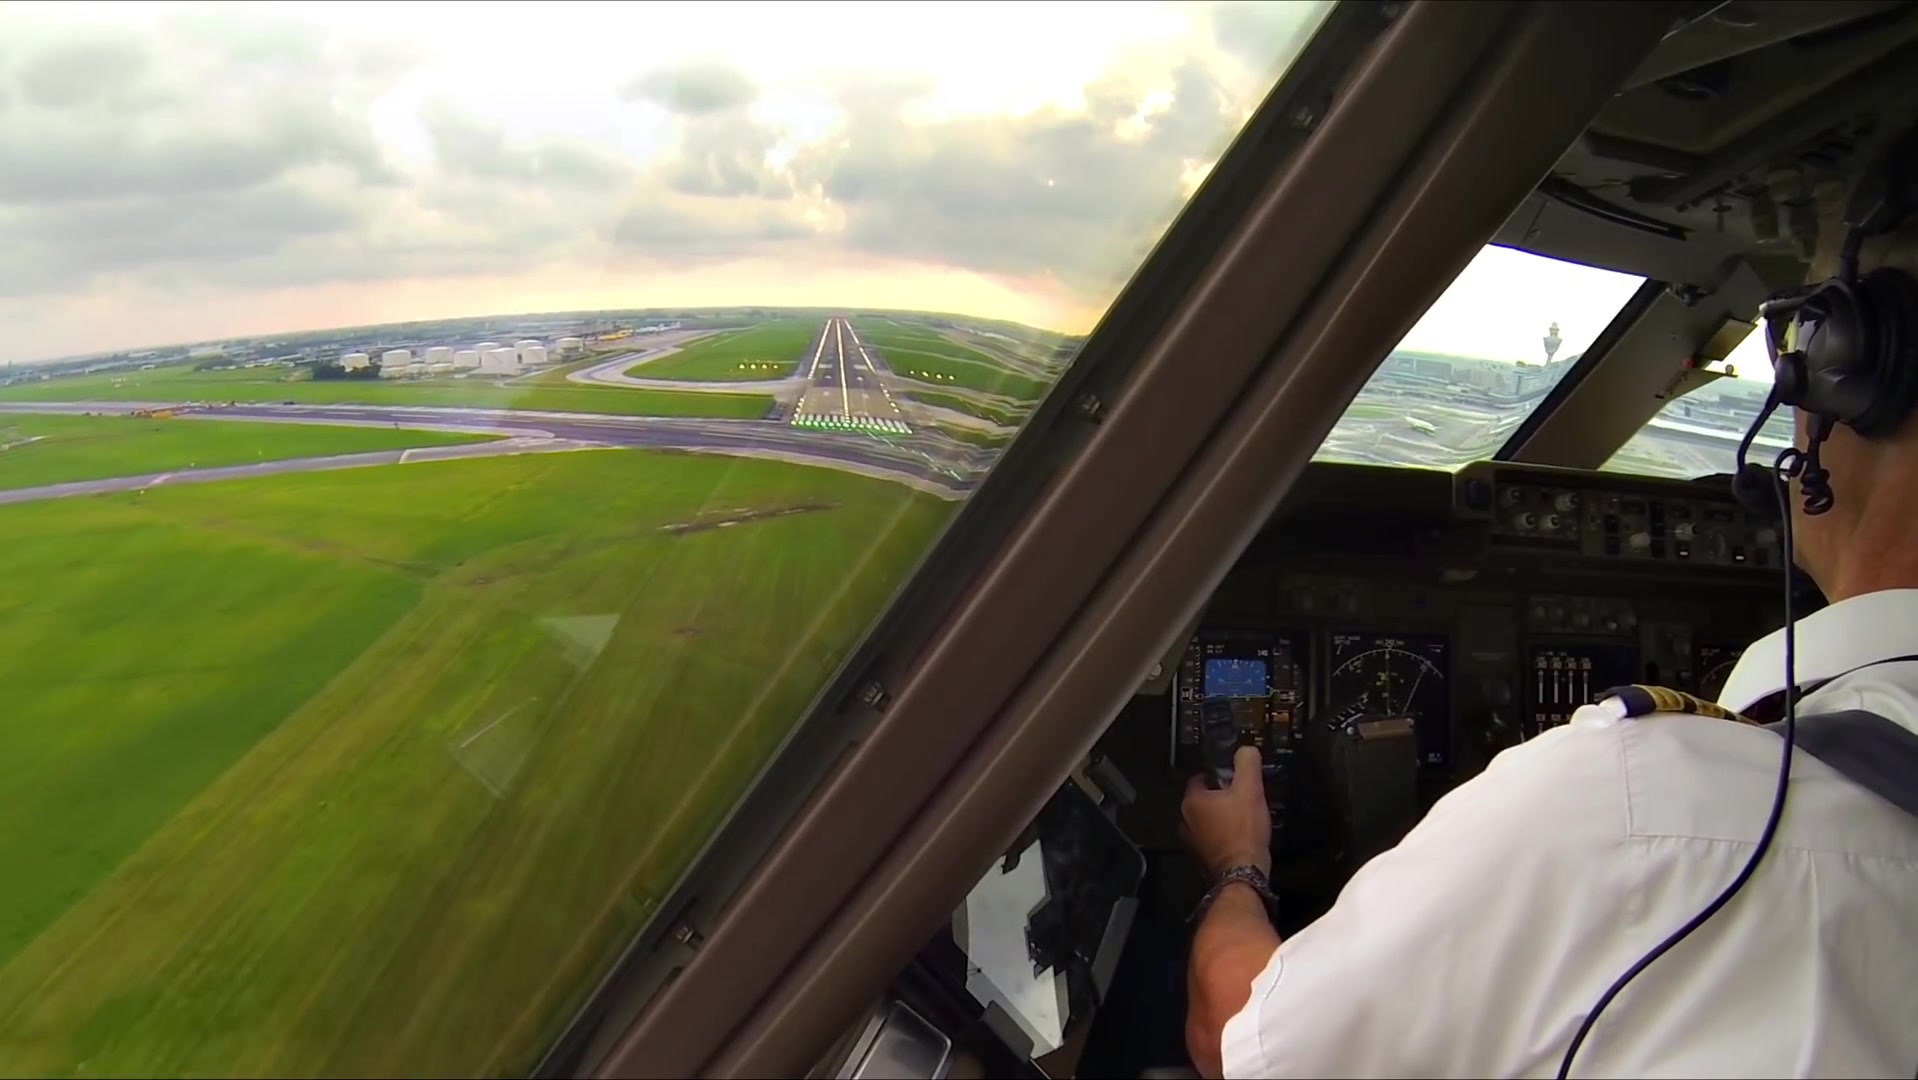entrance: (794, 414, 909, 435)
runway: (782, 313, 914, 439)
